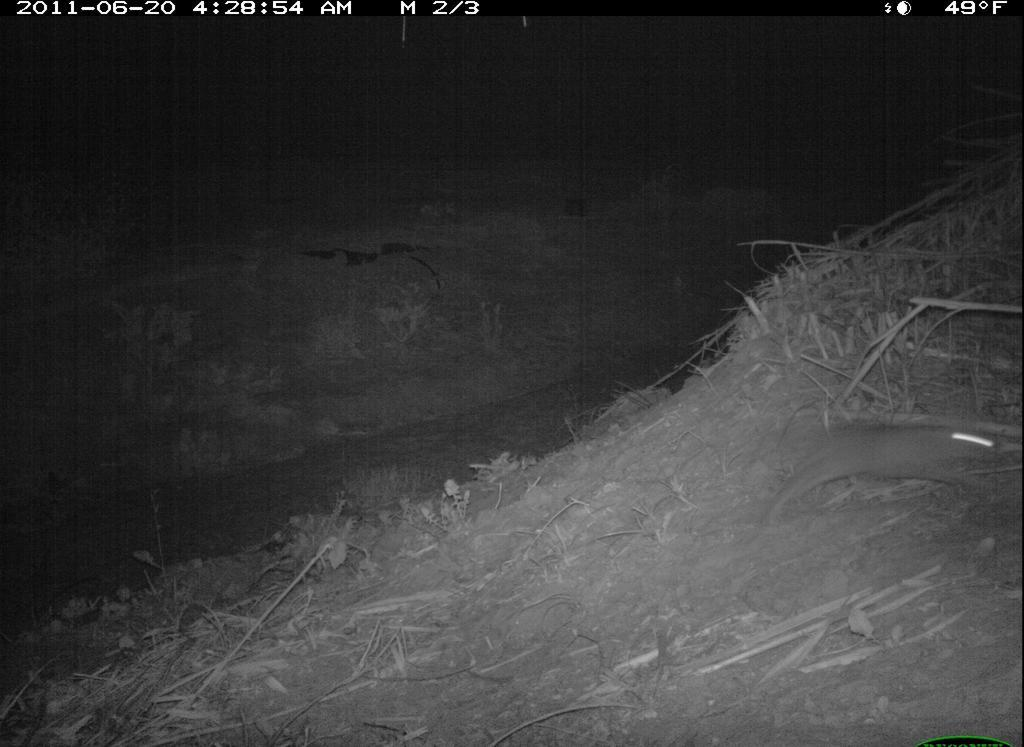rabbit: (745, 408, 1017, 550)
